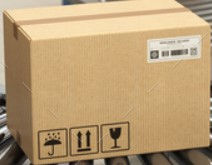stock: (5, 1, 210, 165)
